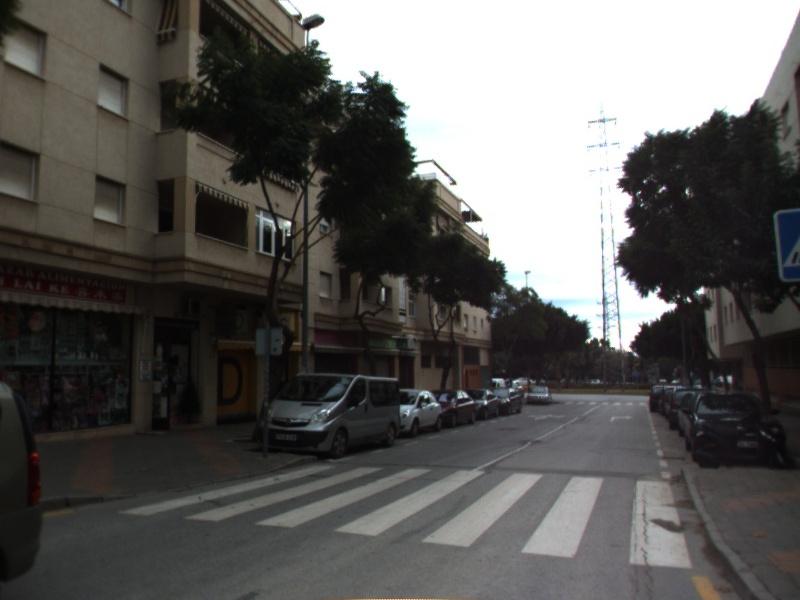RIGHT: (608, 413, 634, 423)
